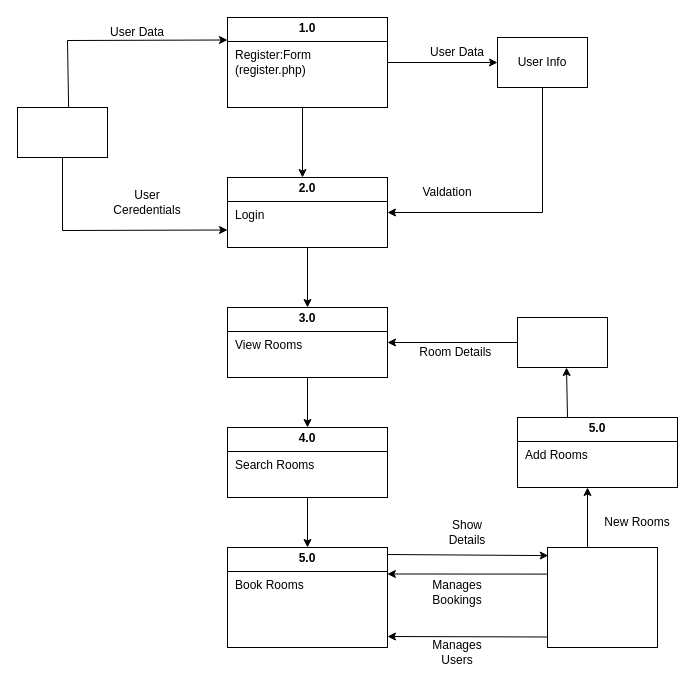
This 695x685 diagram has some shape labels left out. The shapes that lost their labels are listed below. From the top down, each one's box as (x1, y1, x2, y2) in pixels, then its label:
(16, 106, 108, 158): User
(516, 316, 608, 368): Rooms
(546, 546, 658, 648): Admin
